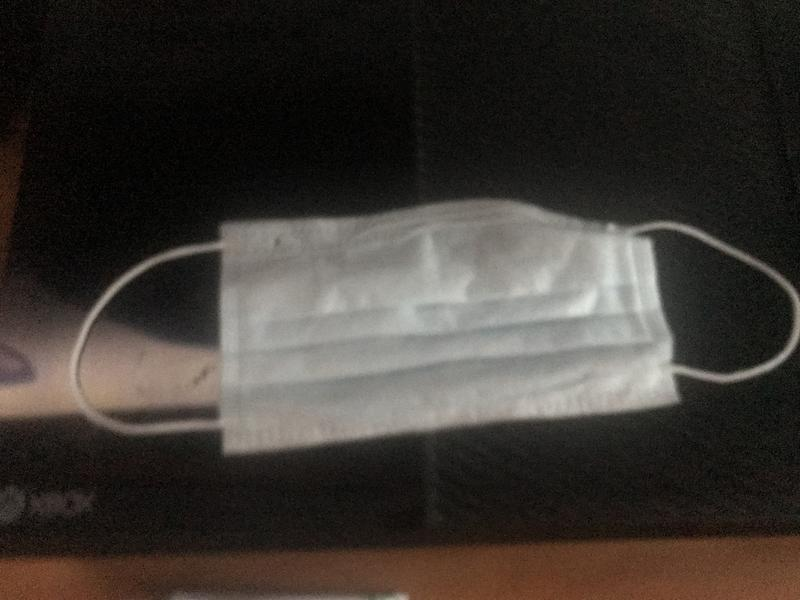medical_mask: (70, 199, 800, 442)
